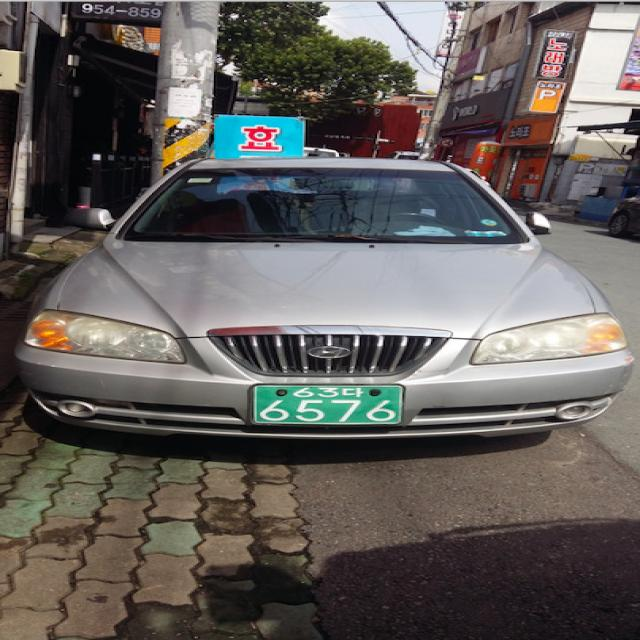car: (0, 150, 640, 474)
illegal_plate: (239, 386, 412, 432)
